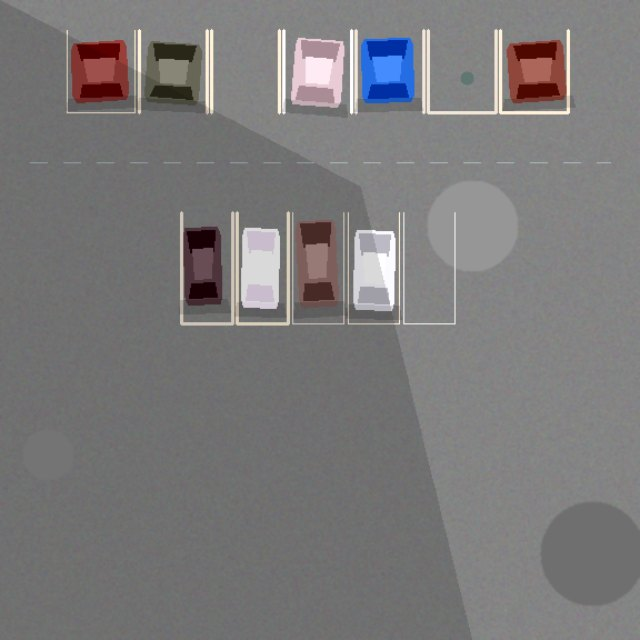space-empty: (403, 212, 454, 323), (211, 30, 279, 112), (428, 30, 496, 112)
space-occupied: (181, 212, 232, 323), (237, 212, 288, 323), (292, 212, 343, 323), (348, 212, 399, 323), (139, 30, 207, 112), (283, 30, 351, 112), (500, 30, 568, 112), (67, 30, 134, 112), (356, 30, 423, 112)
